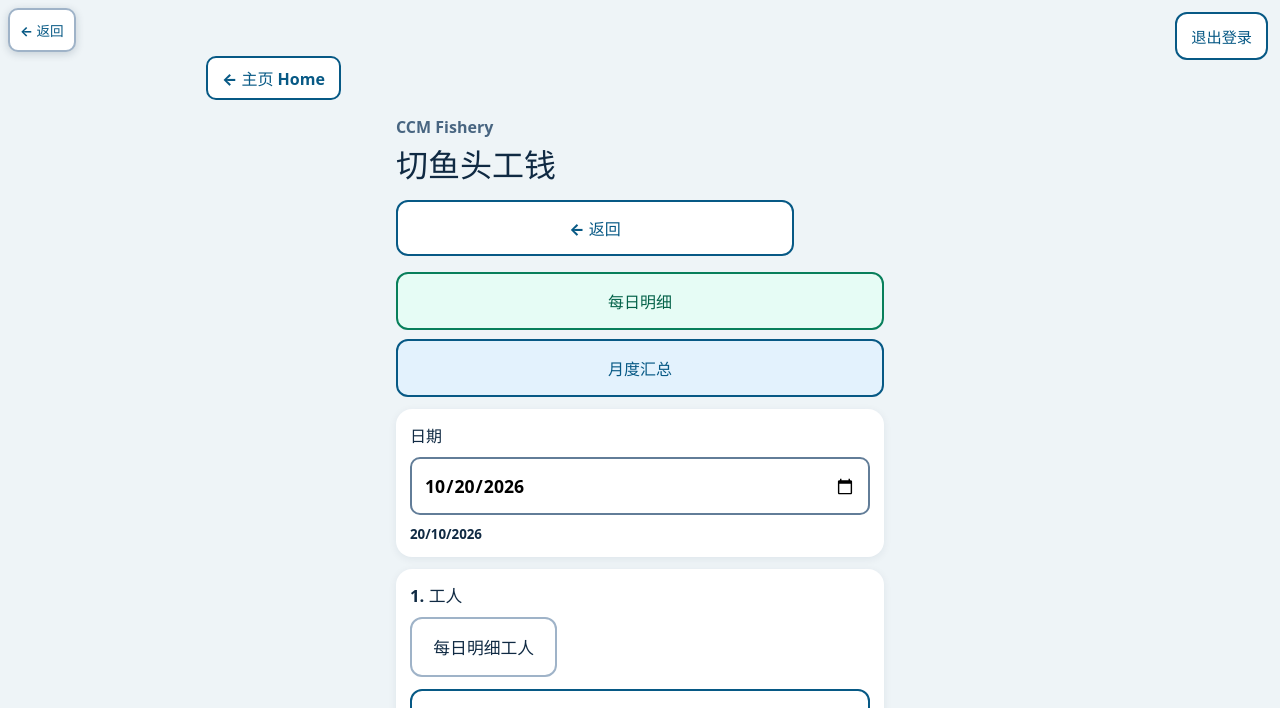
Test case: daily wage route compatibility › opens canonical daily details from wage entry using the newly selected business date
Check: the button "每日明细工人" is shown, box [410, 617, 557, 677]
Type "2026-07-31" into the date field labelled "日期" at (640,486), box [410, 457, 870, 515]
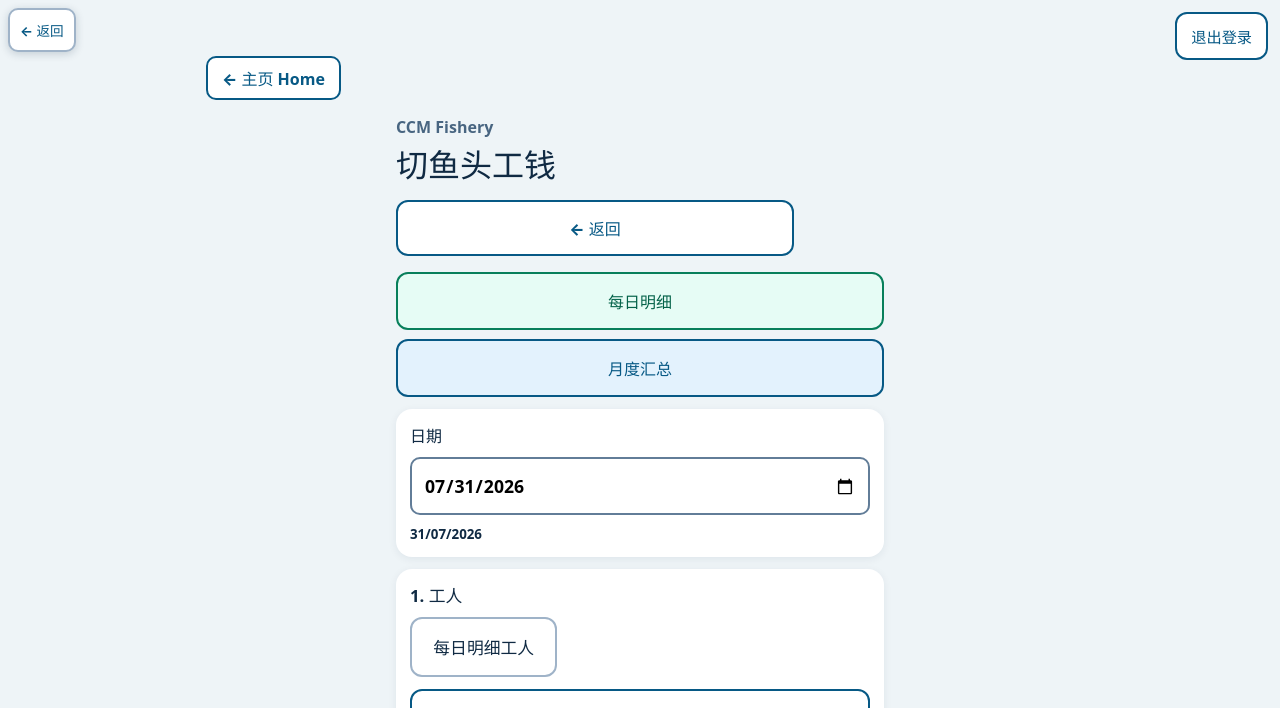
Click the link "每日明细" at (640,301), box [396, 272, 884, 330]
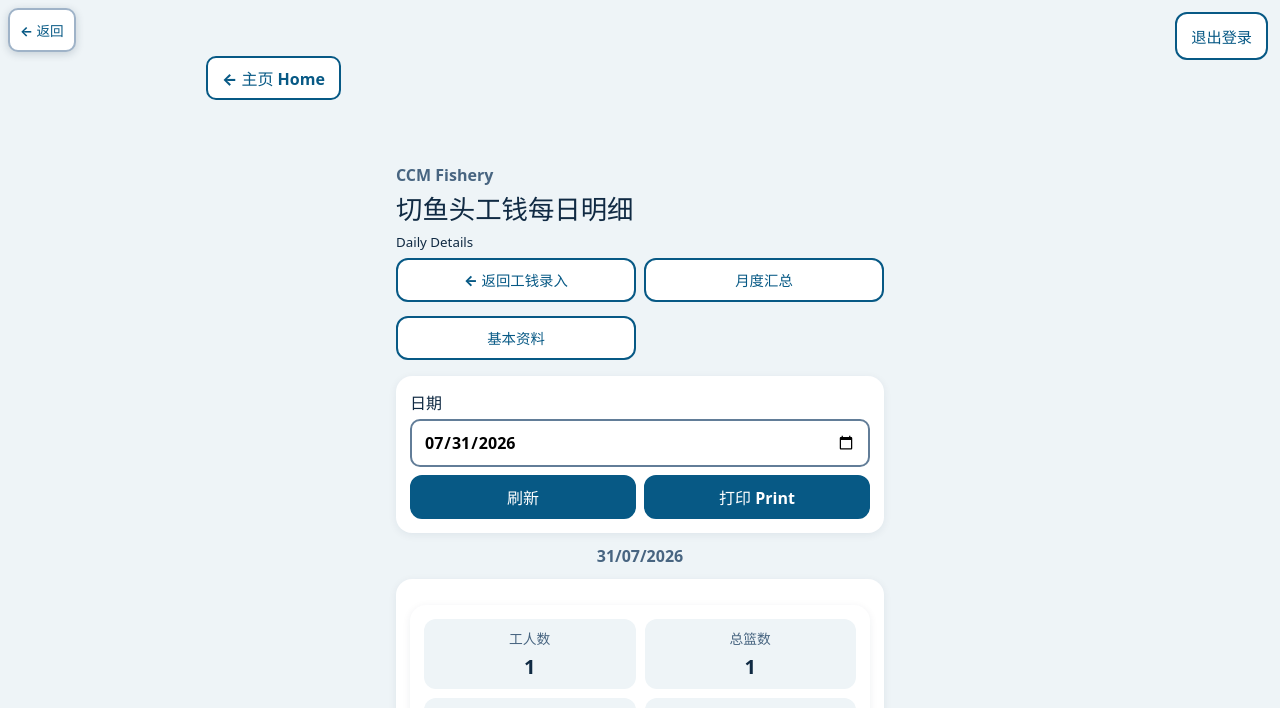
Check: the date field labelled "日期" holds "2026-07-31", box [410, 419, 870, 467]
Check: the heading "切鱼头工钱每日明细" is shown, box [396, 191, 634, 227]
